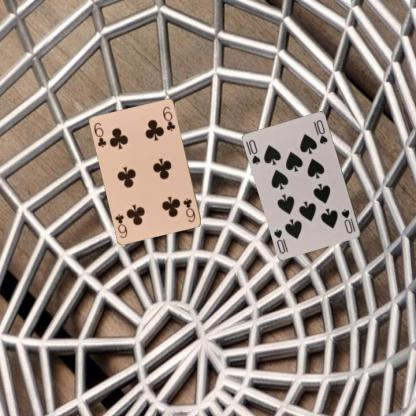10s: (339, 207, 357, 234), (246, 137, 262, 166)
6c: (91, 120, 108, 149), (181, 196, 196, 223)
